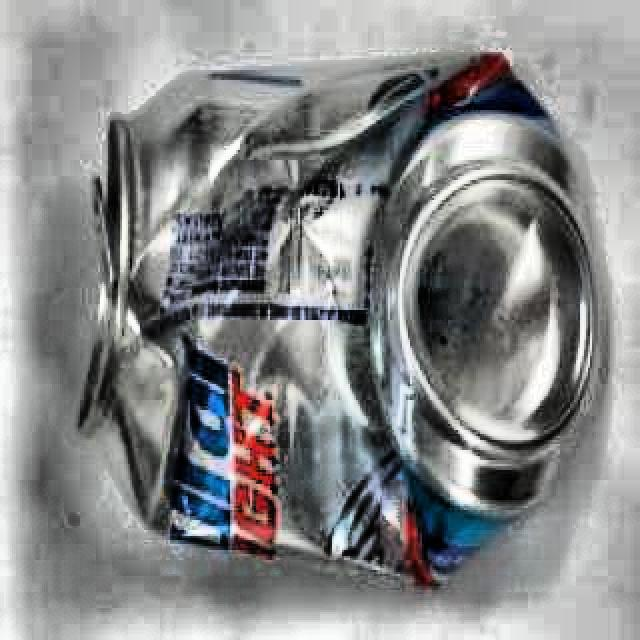metal: (60, 45, 601, 610)
